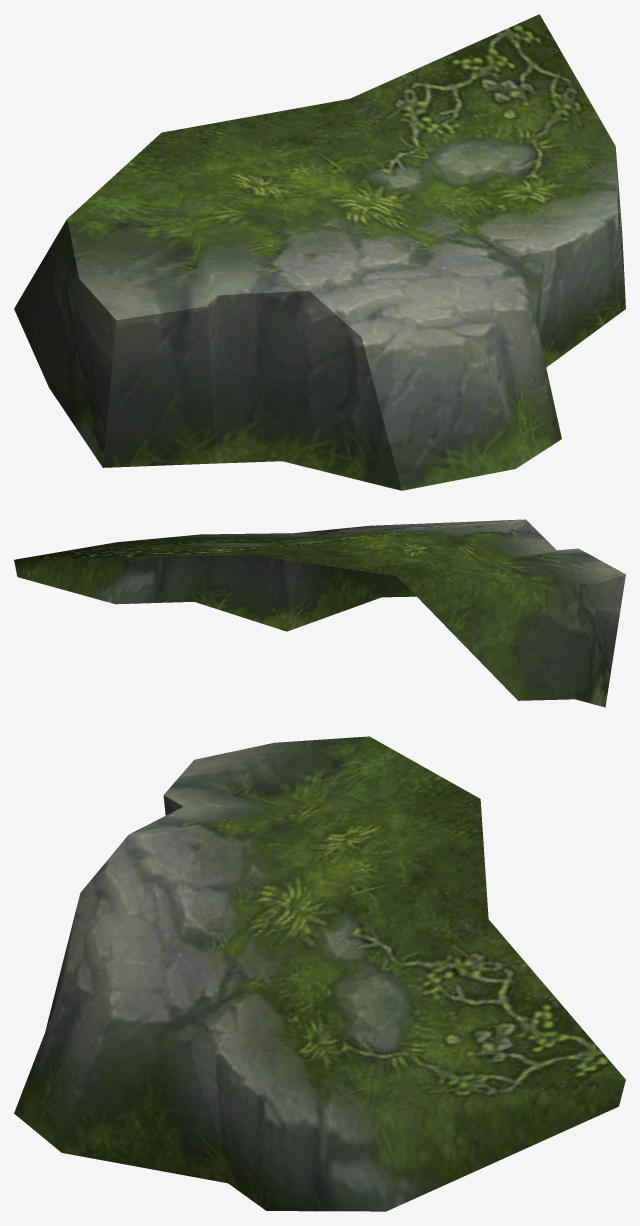
Rendered from Item_3002_shanshi01_xiaoshi02.FBX.
The picture shows the model from 3 angles, top to bottom: view 1: azimuth 30°, elevation 25°; view 2: azimuth 150°, elevation 25°; view 3: azimuth 270°, elevation 25°; orthographic projection. The views are drawn at different scales.
Visible parts, largest first — view 1: Item_3002_shanshi01_xiaoshi02; view 2: Item_3002_shanshi01_xiaoshi02; view 3: Item_3002_shanshi01_xiaoshi02.
Boxes of the visible parts, <box> form: Item_3002_shanshi01_xiaoshi02: <box>14,14,625,490</box>; Item_3002_shanshi01_xiaoshi02: <box>14,519,625,707</box>; Item_3002_shanshi01_xiaoshi02: <box>14,736,625,1211</box>.
Bounding box in the file's own units: 4934 × 1684 × 3829.
